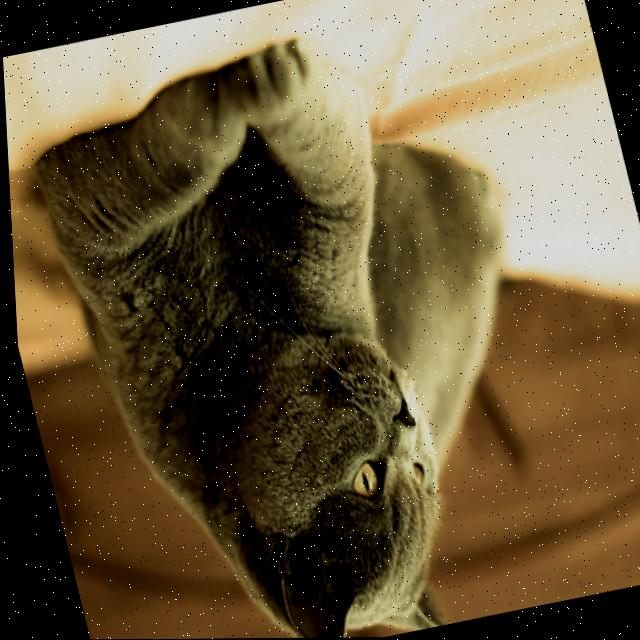British Shorthair: (4, 0, 598, 640)
